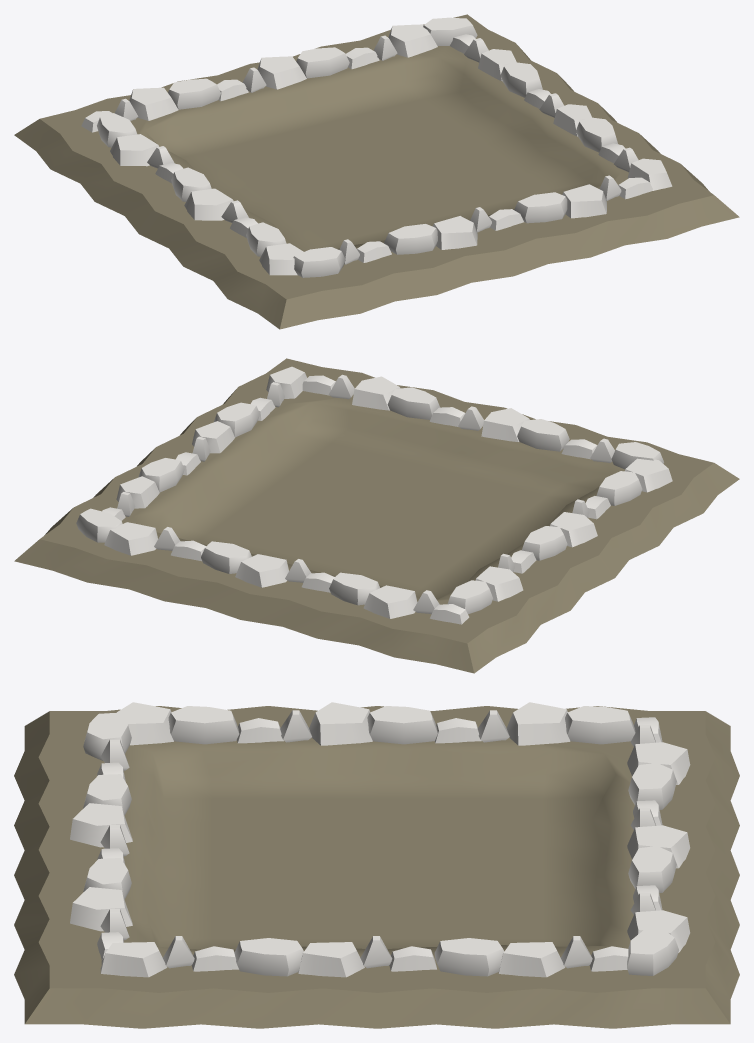
The model's file is FarmLand_Irrigated.fbx.
3 views of the same model, one above another, from view 1: azimuth 30°, elevation 25°; view 2: azimuth 150°, elevation 25°; view 3: azimuth 270°, elevation 25° (orthographic). The views are drawn at different scales.
Parts seen in each view (by area): view 1: FarmLandBase, LandPebble3.006, LandPebble3.007, LandPebble3.005, LandPebble3.009, LandPebble3.008, LandPebble2.008, LandPebble2.009, LandPebble2.010, LandPebble2.006, LandPebble2.001, LandPebble2.007 (+15 smaller); view 2: FarmLandBase, LandPebble2.009, LandPebble2.008, LandPebble2.010, LandPebble3.006, LandPebble3.005, LandPebble3.008, LandPebble3.009, LandPebble2.006, LandPebble2.007, LandPebble3.002, LandPebble3.001 (+15 smaller); view 3: FarmLandBase, LandPebble3.002, LandPebble3.001, LandPebble3, LandPebble3.003, LandPebble3.004, LandPebble2, LandPebble2.001, LandPebble3.010, LandPebble2.005, LandPebble2.003, LandPebble2.004 (+22 smaller).
Boxes of the visible parts, left/top/right/bottom form: FarmLandBase: left=14, top=14, right=739, bottom=329; LandPebble3.006: left=384, top=224, right=437, bottom=254; LandPebble3.007: left=293, top=247, right=345, bottom=277; LandPebble3.005: left=514, top=192, right=567, bottom=223; LandPebble3.009: left=296, top=47, right=349, bottom=78; LandPebble3.008: left=168, top=78, right=220, bottom=109; LandPebble2.008: left=129, top=87, right=178, bottom=120; LandPebble2.009: left=257, top=56, right=306, bottom=89; LandPebble2.010: left=388, top=24, right=437, bottom=57; LandPebble2.006: left=562, top=184, right=606, bottom=218; LandPebble2.001: left=184, top=188, right=233, bottom=220; LandPebble2.007: left=432, top=216, right=477, bottom=249; FarmLandBase: left=14, top=358, right=739, bottom=673; LandPebble2.009: left=235, top=554, right=288, bottom=587; LandPebble2.008: left=363, top=585, right=417, bottom=618; LandPebble2.010: left=104, top=522, right=157, bottom=555; LandPebble3.006: left=517, top=419, right=569, bottom=451; LandPebble3.005: left=387, top=387, right=440, bottom=419; LandPebble3.008: left=329, top=572, right=379, bottom=605; LandPebble3.009: left=201, top=541, right=251, bottom=573; LandPebble2.006: left=352, top=376, right=400, bottom=410; LandPebble2.007: left=481, top=408, right=529, bottom=441; LandPebble3.002: left=596, top=471, right=642, bottom=505; LandPebble3.001: left=522, top=526, right=567, bottom=560; FarmLandBase: left=14, top=706, right=739, bottom=1028; LandPebble3.002: left=168, top=706, right=239, bottom=744; LandPebble3.001: left=367, top=706, right=437, bottom=744; LandPebble3: left=565, top=706, right=635, bottom=744; LandPebble3.003: left=434, top=938, right=504, bottom=976; LandPebble3.004: left=234, top=938, right=303, bottom=976; LandPebble2: left=506, top=702, right=570, bottom=745; LandPebble2.001: left=309, top=702, right=372, bottom=745; LandPebble3.010: left=627, top=929, right=678, bottom=975; LandPebble2.005: left=100, top=942, right=167, bottom=977; LandPebble2.003: left=498, top=942, right=565, bottom=977; LandPebble2.004: left=298, top=942, right=364, bottom=977.
Bounding box in the file's own units: 232 × 18.05 × 232.
